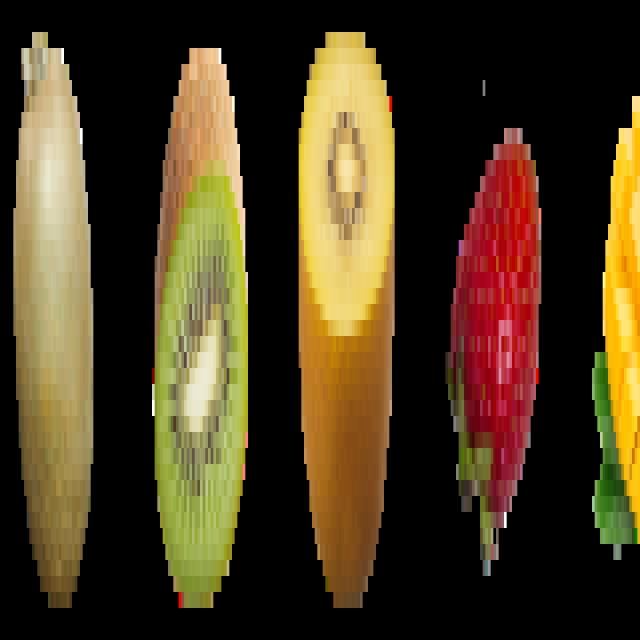kiwifruit: (296, 29, 399, 612), (151, 32, 251, 626), (10, 19, 96, 620)
strawberry: (447, 122, 544, 582)
